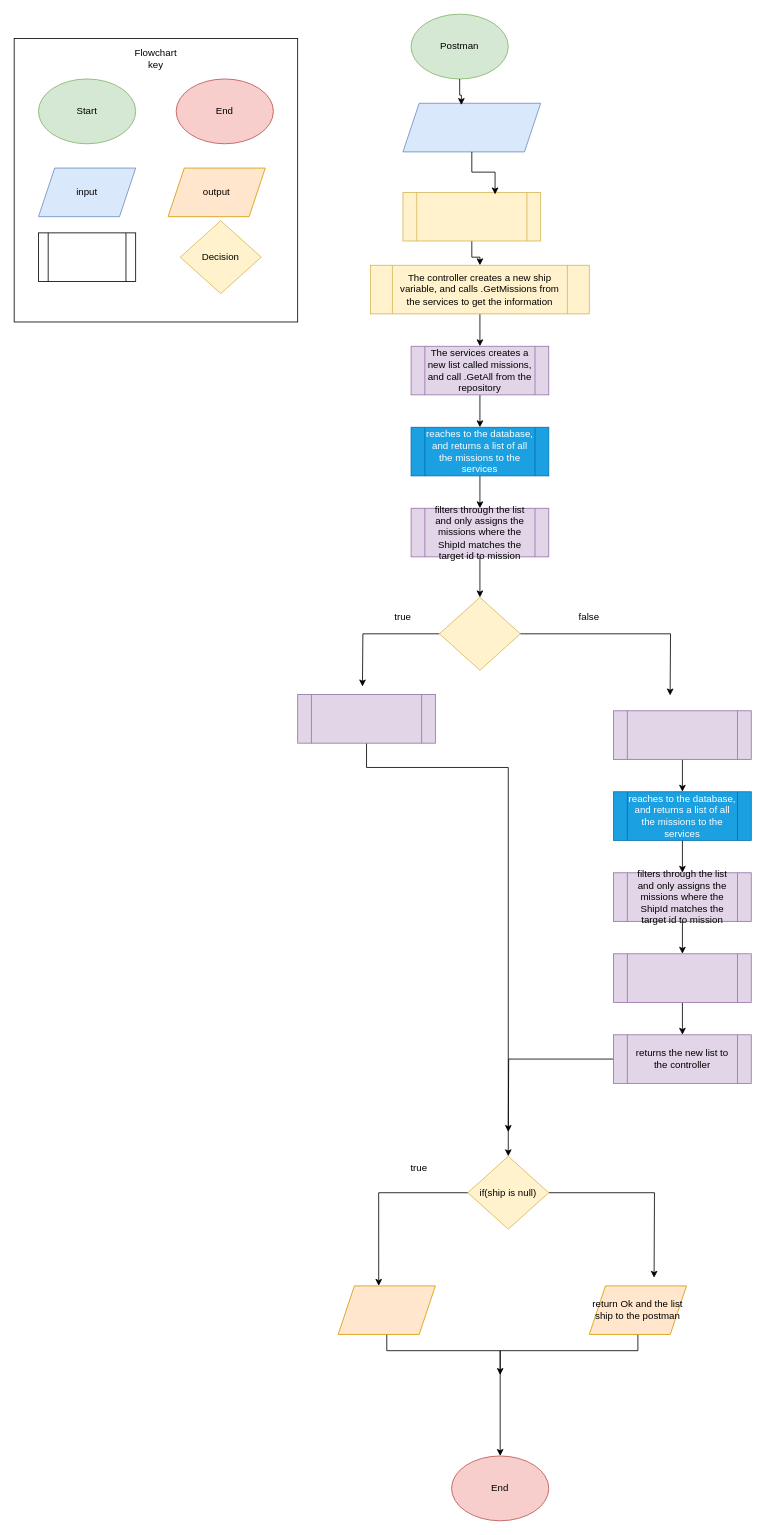
Some shapes in this 765 by 1535 pixel diagram are drawn without their labels. Here are the shapes that lost their labels. From the top down, the box of each, then its label:
(402, 102, 541, 152): User inputs request into postman. ("by-ship/{shipId}
(402, 192, 541, 241): The request ins sent to the controller
(38, 232, 136, 281): process
(439, 597, 520, 670): if(Mission is null
(297, 694, 435, 743): return null to controller
(613, 710, 751, 759): services call GetAll from repository
(613, 953, 751, 1002): calls ToReadDTO to make it what we want the user to see
(337, 1285, 435, 1334): return notFound and error message through postman
